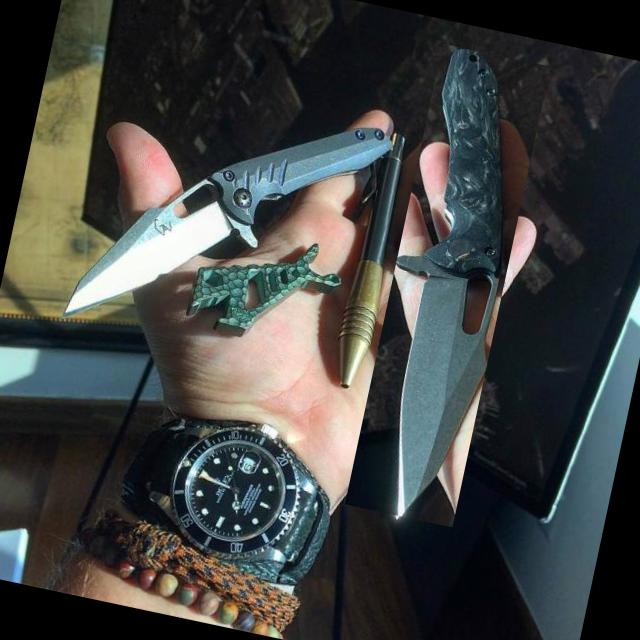Knife: (65, 128, 391, 314), (395, 49, 502, 516)
